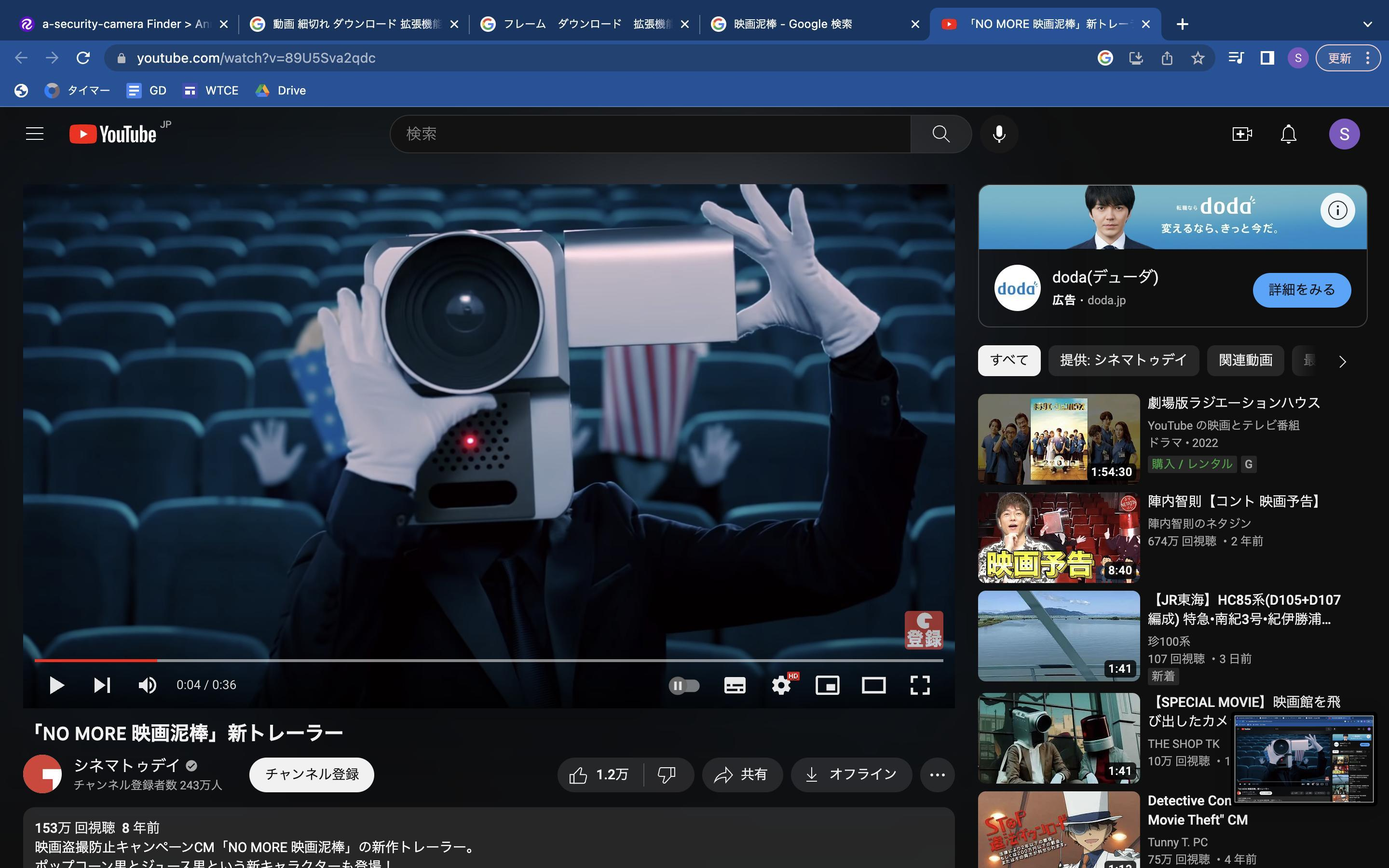no more kid: (360, 235, 744, 516)
